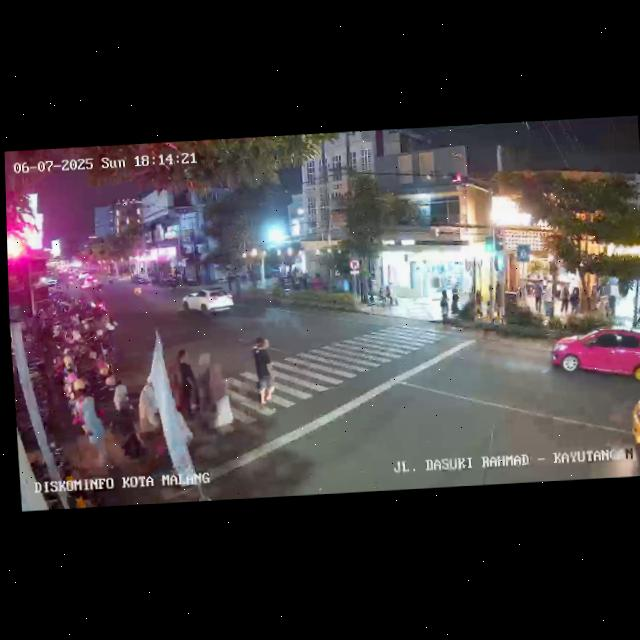car: (549, 325, 640, 390), (180, 282, 235, 319), (627, 378, 640, 473), (31, 274, 61, 296)
motorcycle: (130, 282, 145, 299)
person: (249, 333, 278, 407), (78, 395, 107, 468), (107, 383, 133, 461), (208, 362, 235, 427), (175, 347, 198, 415), (196, 350, 215, 414), (542, 286, 555, 323), (567, 283, 581, 317), (448, 283, 461, 316), (437, 288, 449, 320), (558, 284, 569, 316), (532, 282, 542, 317), (607, 291, 618, 318), (639, 298, 640, 326)
